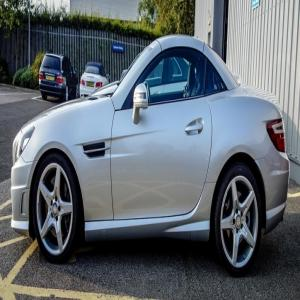Vehicle-registration-plate: (87, 80, 95, 88)
